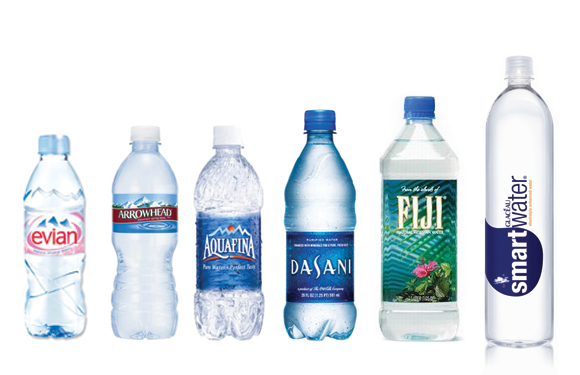plastic_bottle: (478, 51, 562, 350), (373, 90, 465, 347), (278, 104, 360, 345), (190, 122, 269, 342), (108, 119, 184, 342), (18, 131, 92, 342)
